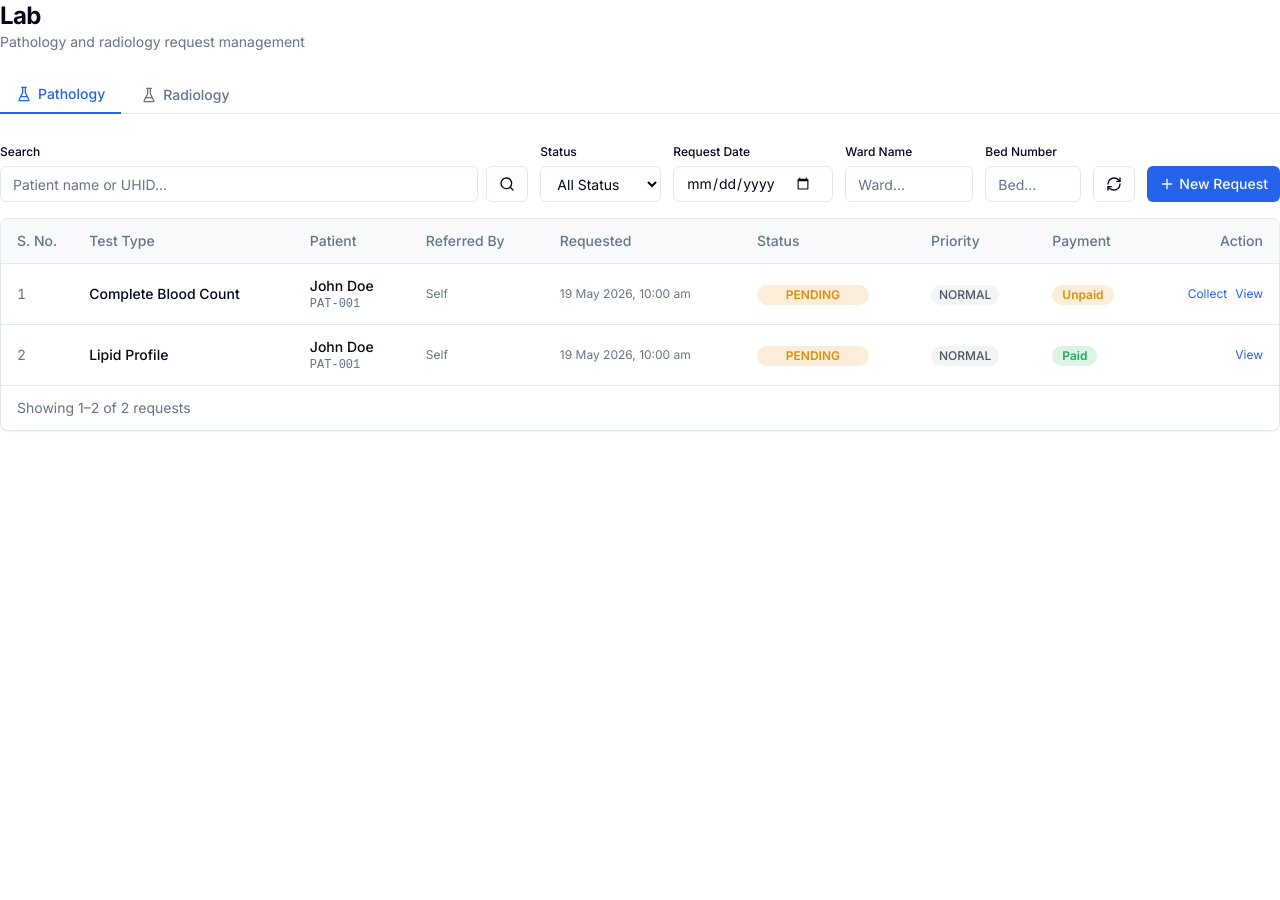
Test: Lab payment — collect flow › explains that collection is online-only when offline
Click the button "Collect" at (1207, 294), box [1188, 286, 1227, 302]
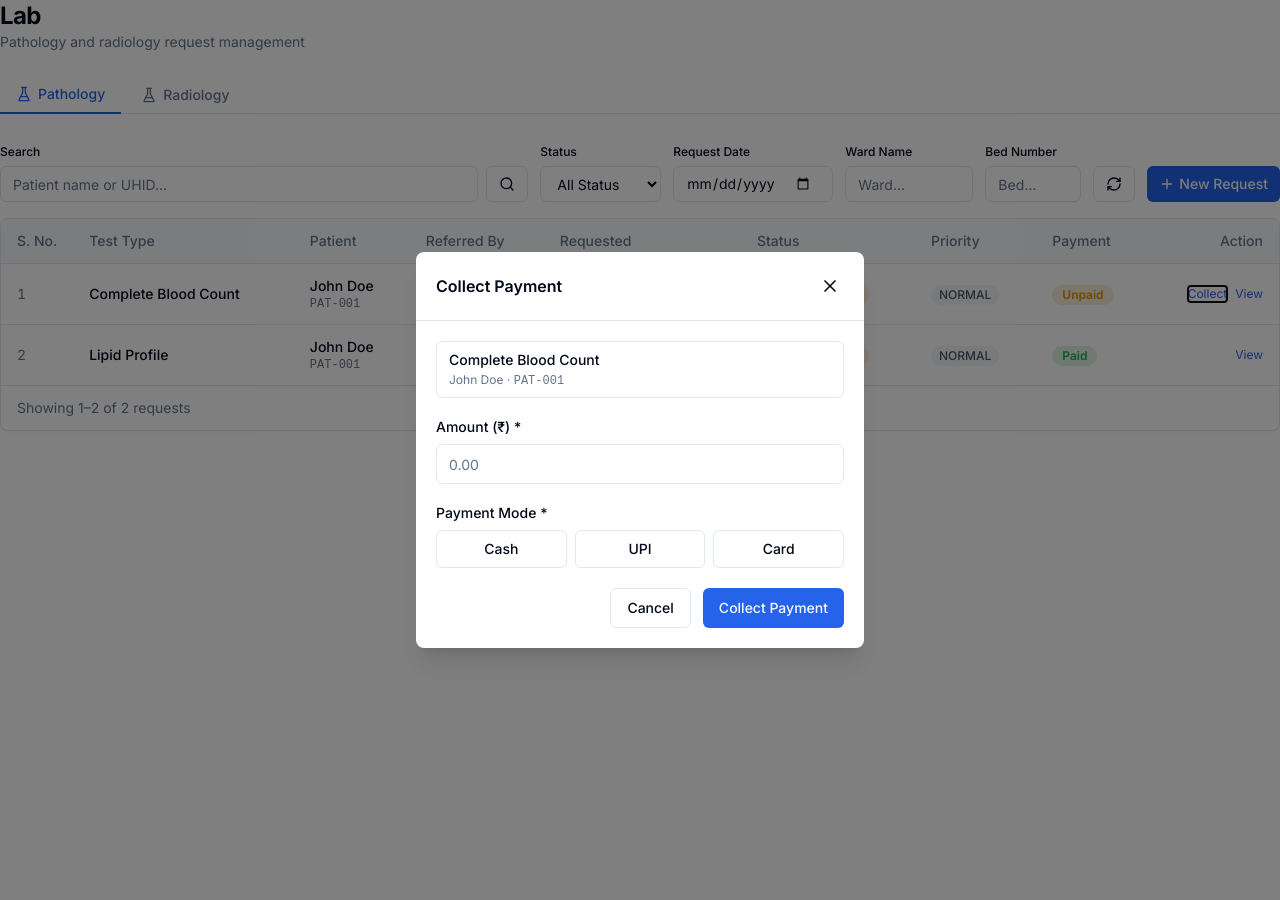
Type "450" into the number field labelled "Amount (₹) *" at (640, 464), box [436, 444, 844, 484]
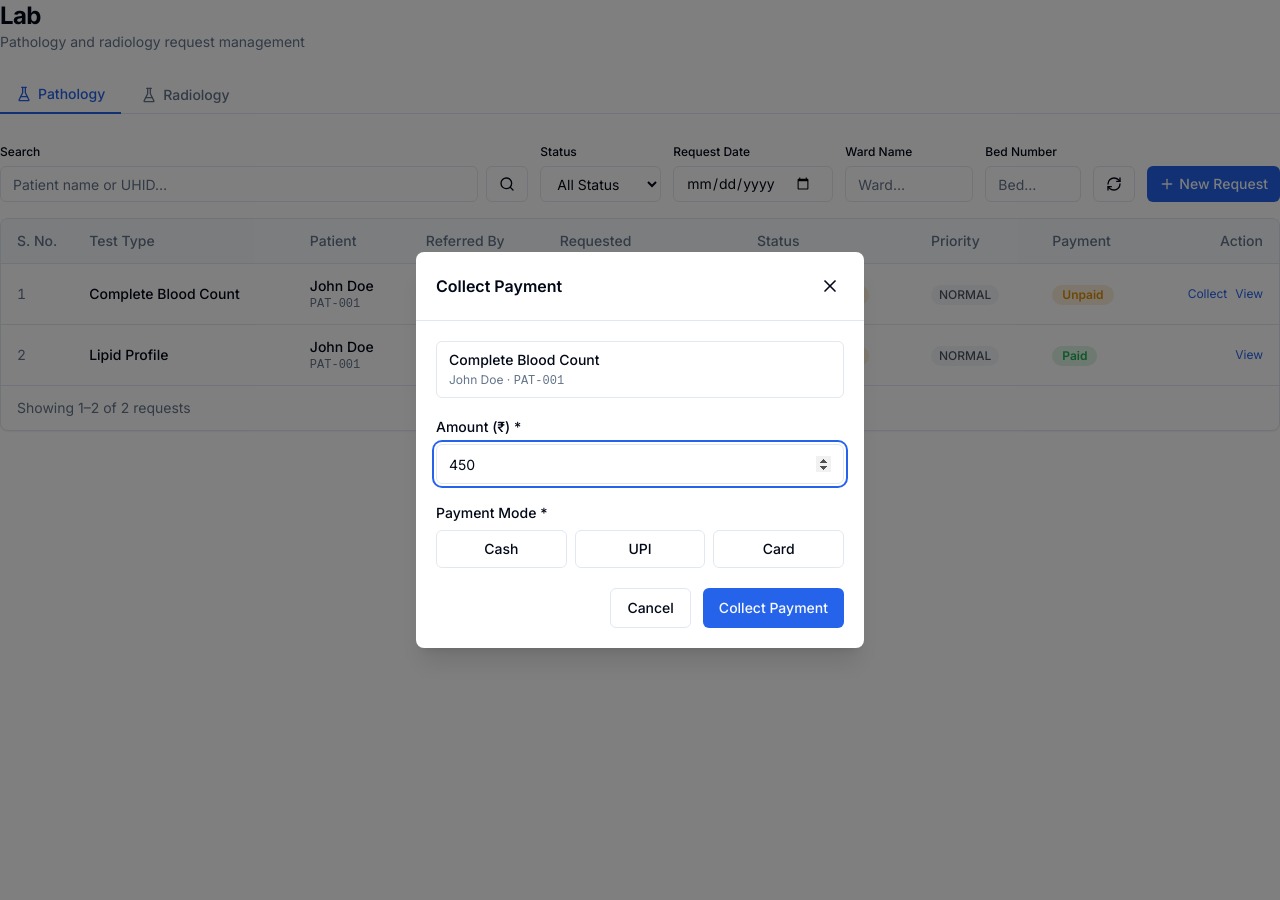
Click the button "Cash" at (501, 549), box [436, 530, 567, 568]
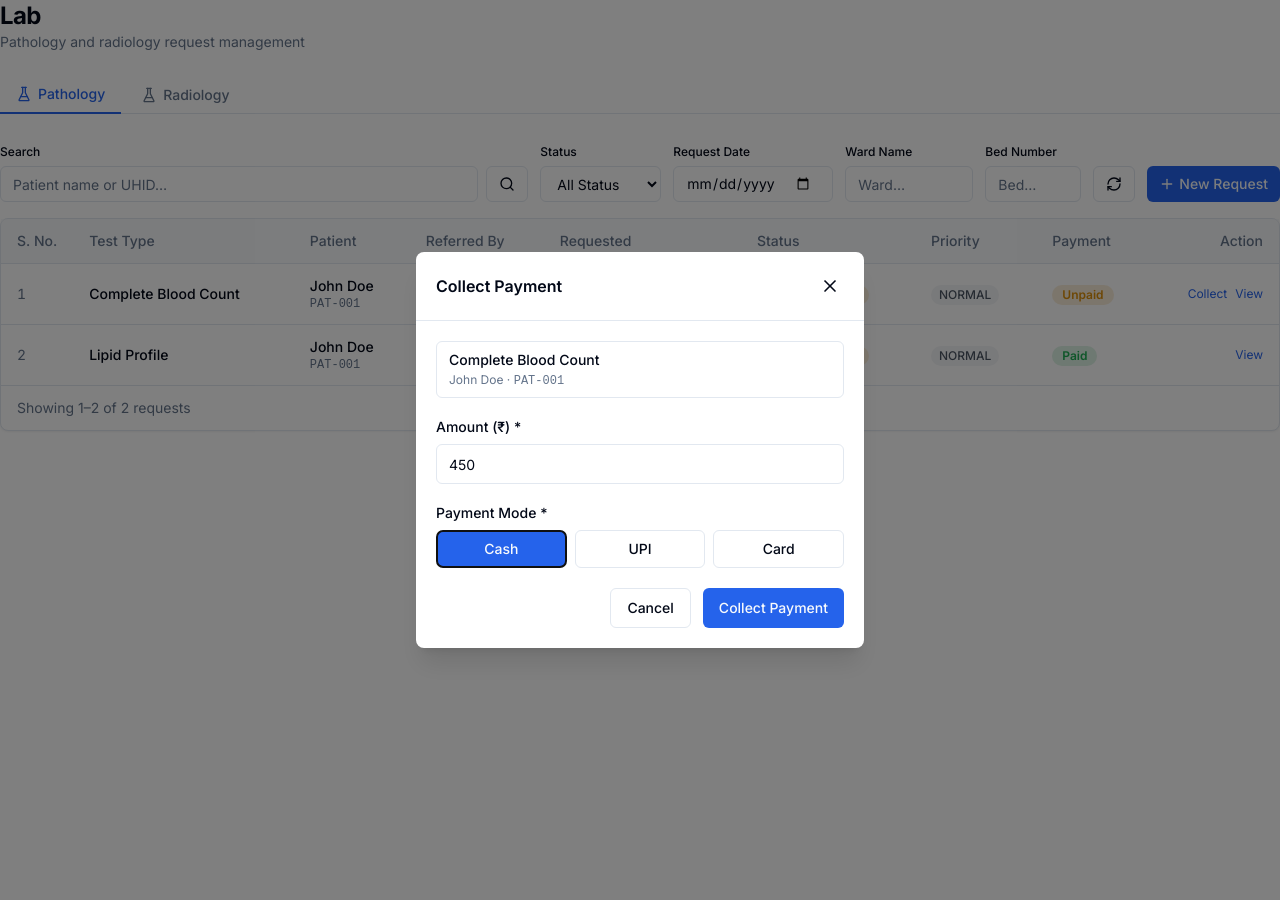
Click the button "Collect Payment" at (773, 608), box [703, 588, 844, 628]
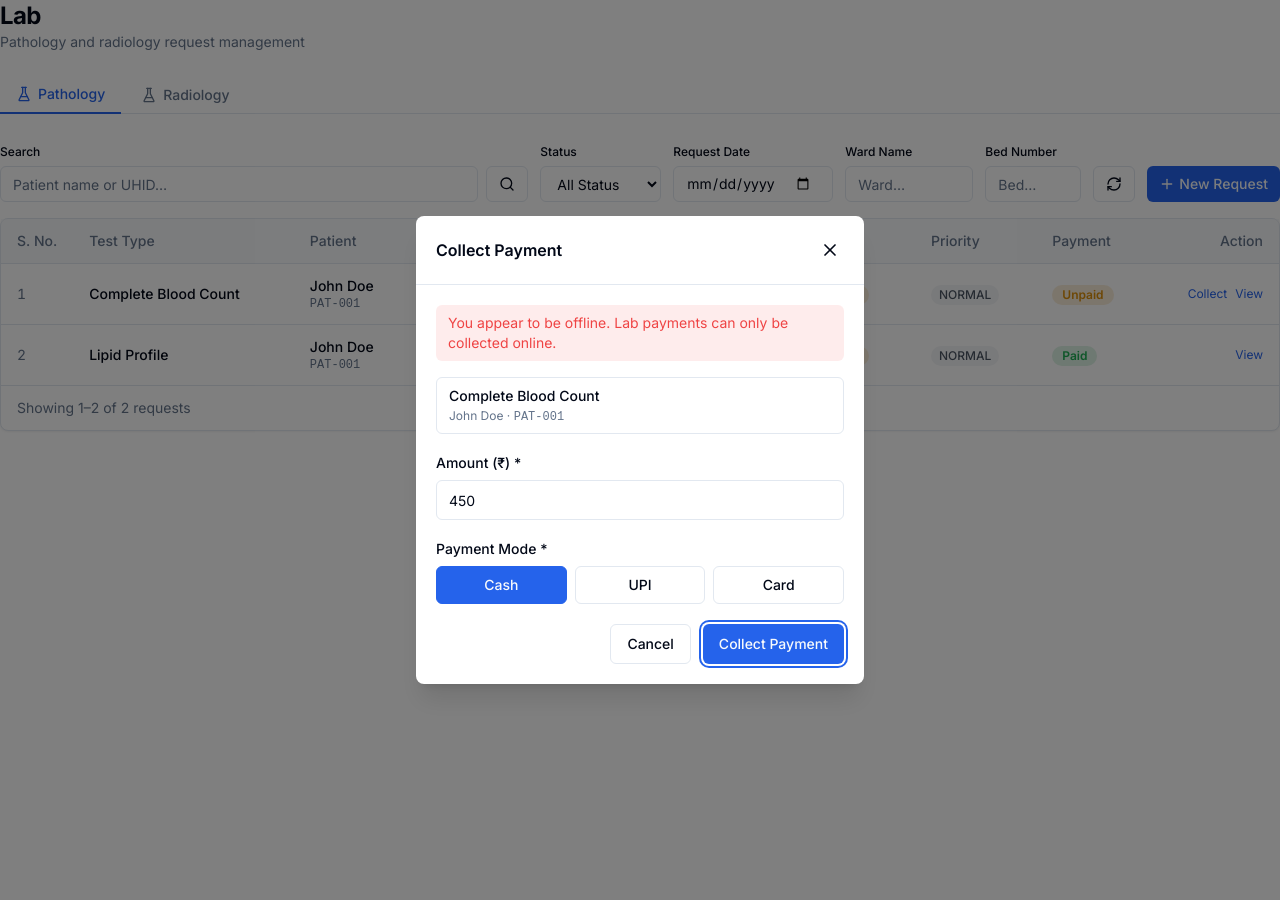
Now the message shows "only be collected online", box [448, 314, 788, 351]
